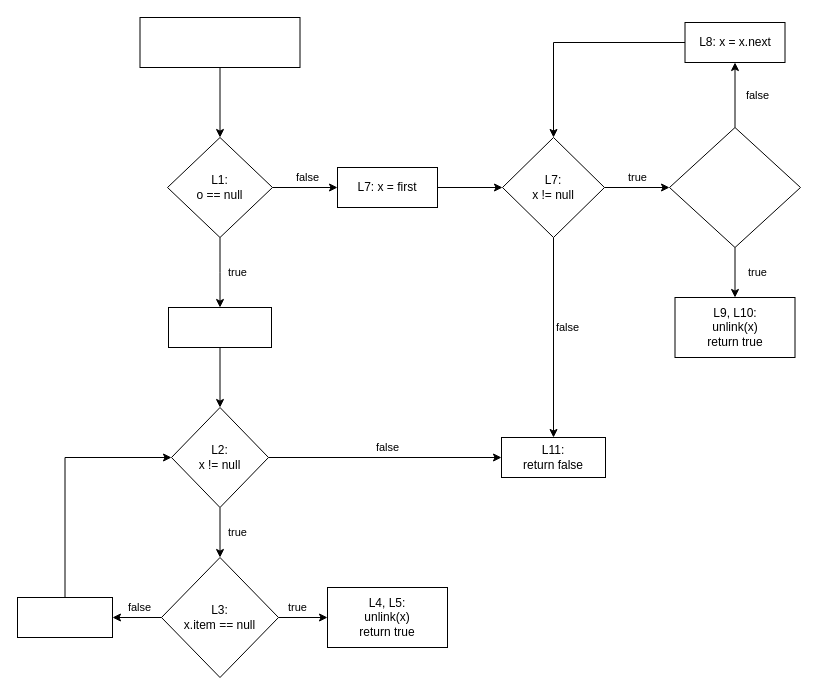
The diagram is 818 pixels wide and 695 high, and some of its shapes have lost their labels. The centre of each missing label's shape, as x and y in pixels:
"boolean remove(Object o)" goes at (x=219, y=42).
"L2: x = first" goes at (x=220, y=327).
"L2: x = x.next" goes at (x=64, y=617).
"L8: o.equals(x.item)" goes at (x=734, y=187).
